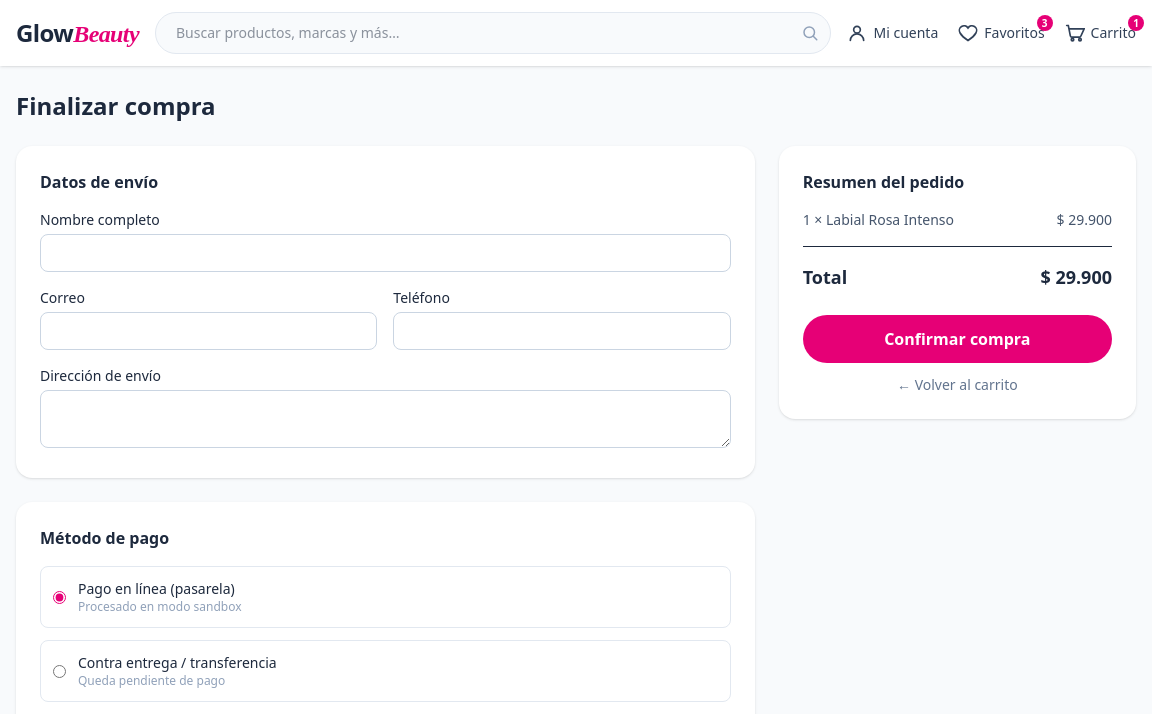
Scenario: CheckoutPage – formulario › deshabilita el botón y muestra 'Procesando…' mientras se envía el pedido
Type "Ana García" into the field labelled "Nombre completo" at (385, 253), box [40,234,731,272]
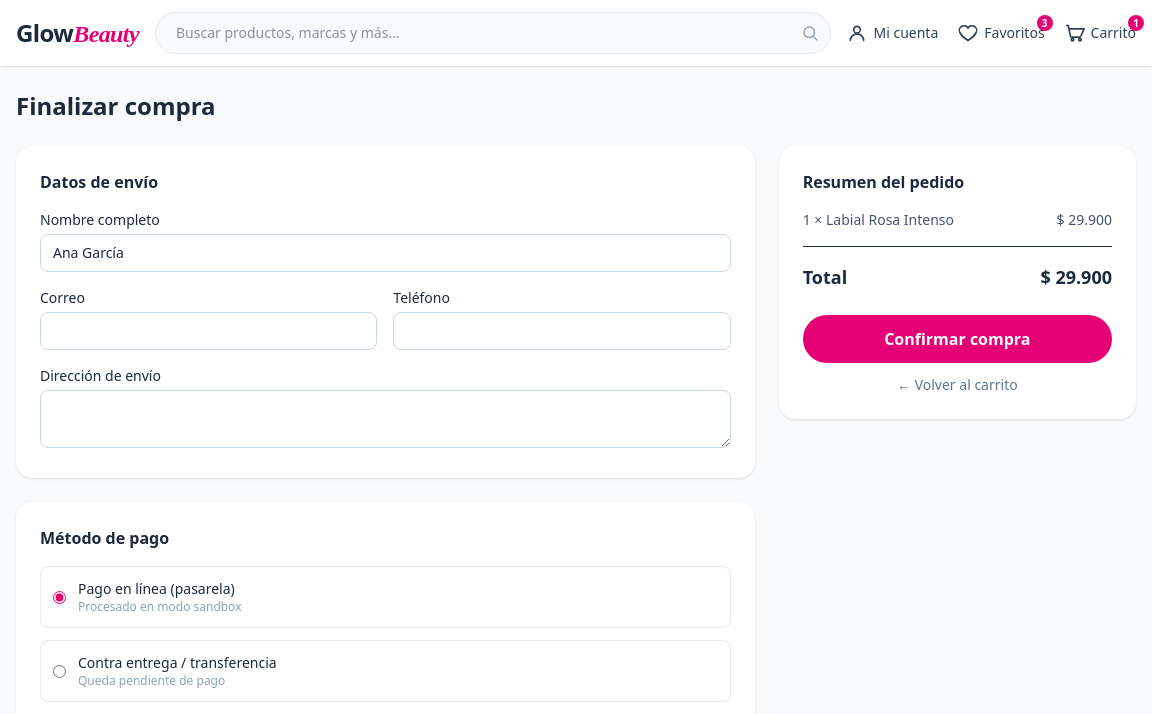
Type "ana@test.com" into the field labelled "Correo" at (209, 331), box [40,312,377,350]
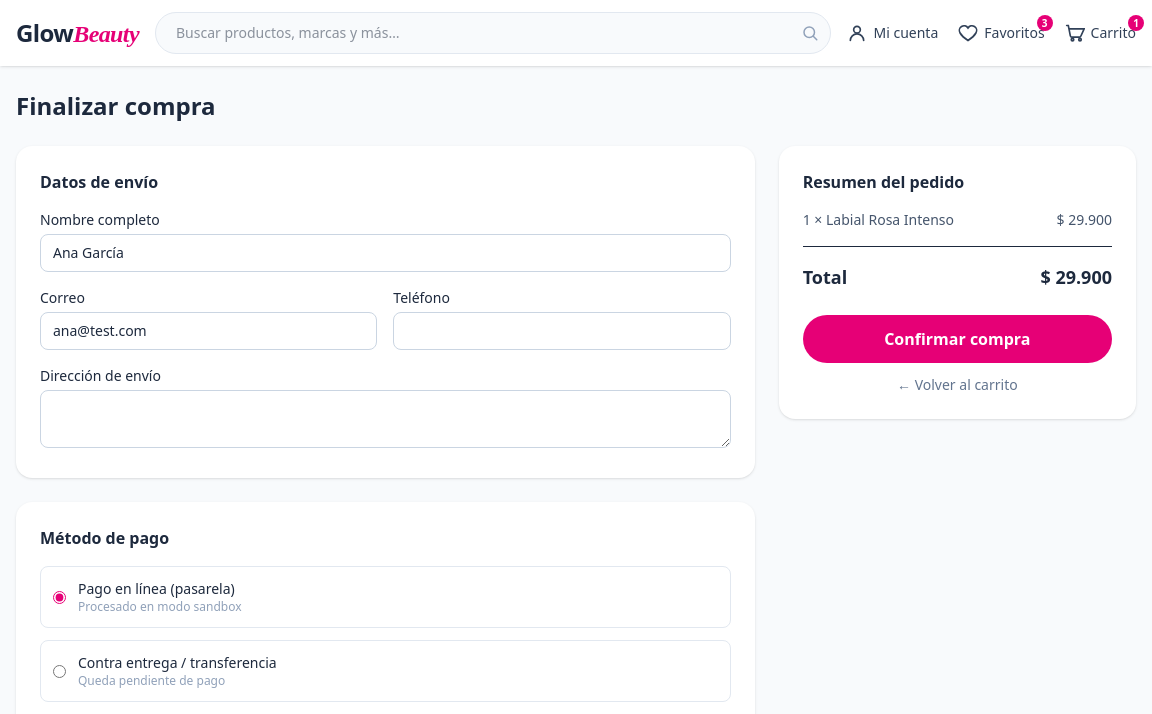
Type "Calle 1 #2-3" into the text box labelled "Dirección de envío" at (385, 419), box [40,390,731,448]
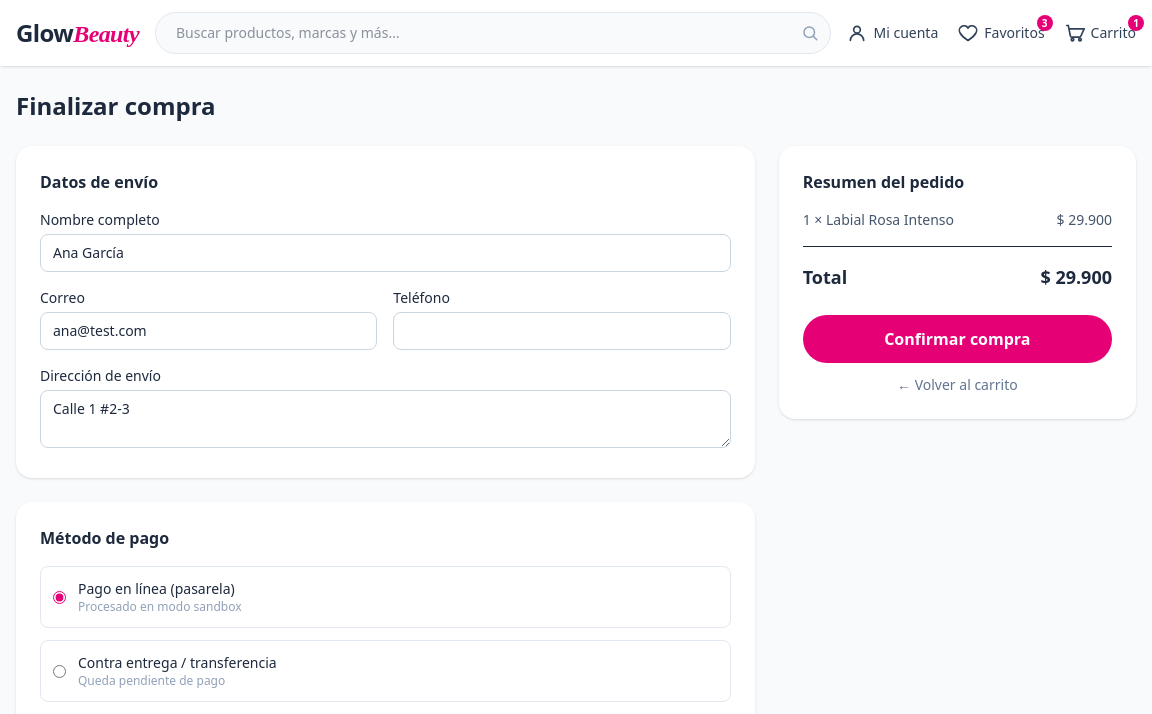
Click the button "Confirmar compra" at (957, 339), box [803,315,1112,363]
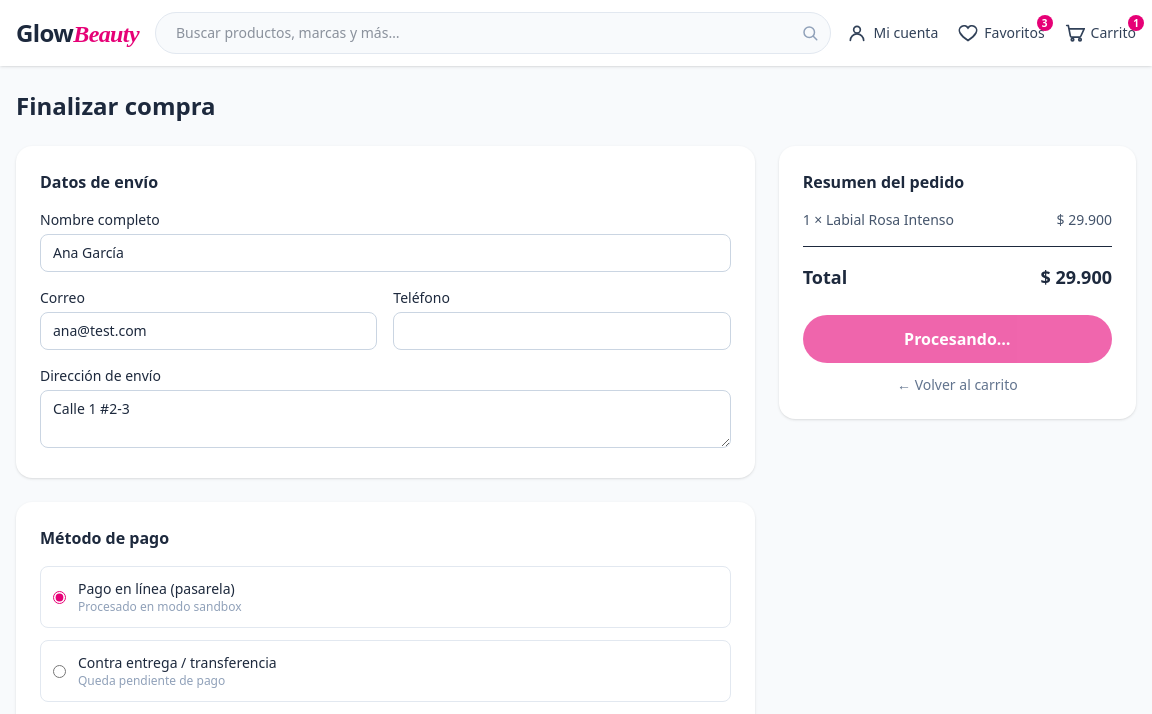
Result: the button "Procesando…" is disabled at [803,315,1112,363]
